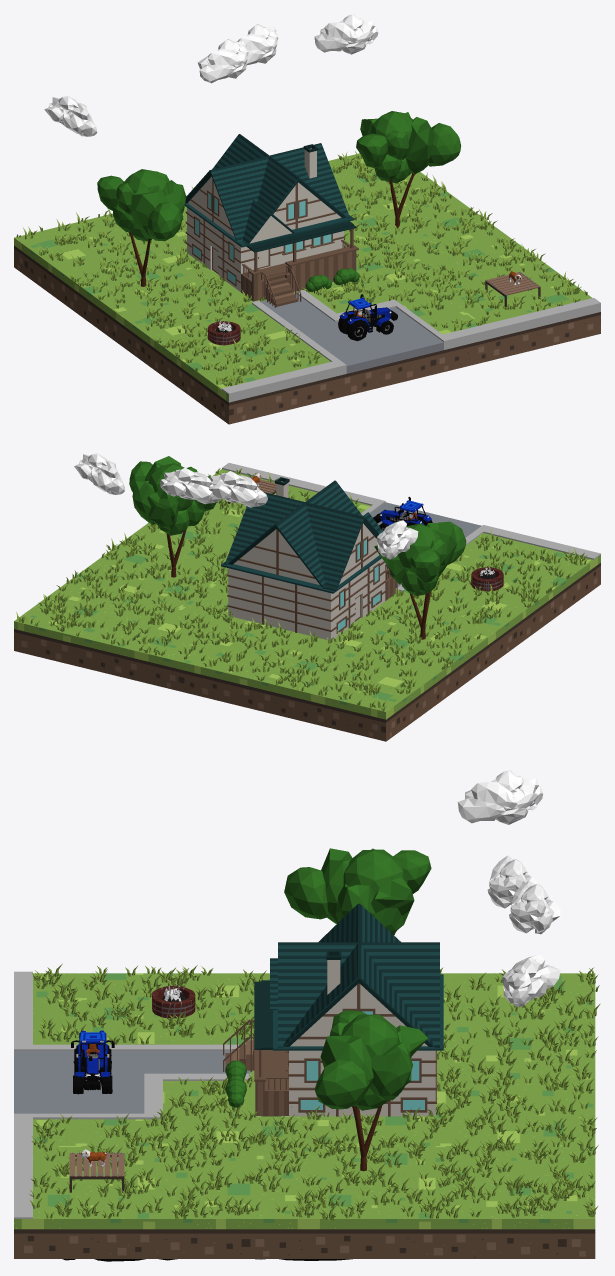
The picture shows the model from 3 angles, top to bottom: view 1: azimuth 30°, elevation 25°; view 2: azimuth 150°, elevation 25°; view 3: azimuth 270°, elevation 25°; orthographic projection. The views are drawn at different scales.
Parts seen in each view (by area): view 1: Cube.006, Cube.793, Circle.012_Grass_0.192, Cube.007, tree, tree.001, VEHICLES_TRACTOR, Cube.009, OBJRANDOM_CAMPFIRE; view 2: Cube.006, Cube.793, Circle.012_Grass_0.192, Cube.007, tree.001, tree, VEHICLES_TRACTOR, OBJRANDOM_CAMPFIRE; view 3: Cube.006, Circle.012_Grass_0.192, Cube.793, tree, Cube.007, tree.001, VEHICLES_TRACTOR, Cube.009, OBJRANDOM_CAMPFIRE.
Boxes of the visible parts, left/top/right/bottom form: Cube.006: left=14, top=153, right=600, bottom=424; Cube.793: left=185, top=134, right=358, bottom=307; Circle.012_Grass_0.192: left=16, top=151, right=587, bottom=386; Cube.007: left=44, top=14, right=378, bottom=136; tree: left=356, top=111, right=460, bottom=228; tree.001: left=97, top=169, right=186, bottom=286; VEHICLES_TRACTOR: left=338, top=294, right=397, bottom=341; Cube.009: left=485, top=272, right=540, bottom=306; OBJRANDOM_CAMPFIRE: left=207, top=319, right=240, bottom=345; Cube.006: left=14, top=463, right=600, bottom=741; Cube.793: left=221, top=477, right=397, bottom=640; Circle.012_Grass_0.192: left=16, top=468, right=587, bottom=711; Cube.007: left=74, top=453, right=418, bottom=559; tree.001: left=374, top=521, right=466, bottom=639; tree: left=129, top=456, right=216, bottom=577; VEHICLES_TRACTOR: left=373, top=496, right=432, bottom=530; OBJRANDOM_CAMPFIRE: left=471, top=566, right=503, bottom=591; Cube.006: left=14, top=971, right=595, bottom=1258; Circle.012_Grass_0.192: left=29, top=963, right=600, bottom=1220; Cube.793: left=223, top=903, right=443, bottom=1116; tree: left=314, top=1010, right=427, bottom=1171; Cube.007: left=457, top=770, right=560, bottom=1007; tree.001: left=284, top=848, right=431, bottom=935; VEHICLES_TRACTOR: left=71, top=1030, right=114, bottom=1094; Cube.009: left=69, top=1152, right=124, bottom=1192; OBJRANDOM_CAMPFIRE: left=152, top=984, right=195, bottom=1018.
Bounding box in the file's own units: 4071 × 2149 × 4040.
Materials: 31 (4 with a texture image).
